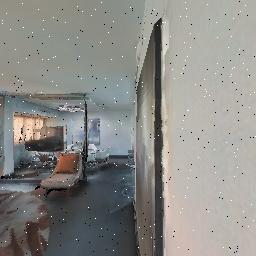sofa: (41, 146, 90, 202)
